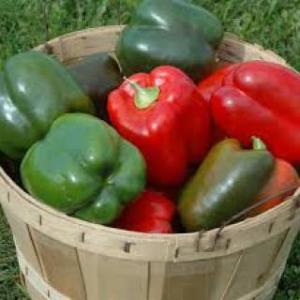bell_pepper: (25, 110, 149, 230), (176, 132, 296, 232), (2, 43, 84, 163), (108, 2, 230, 80)
